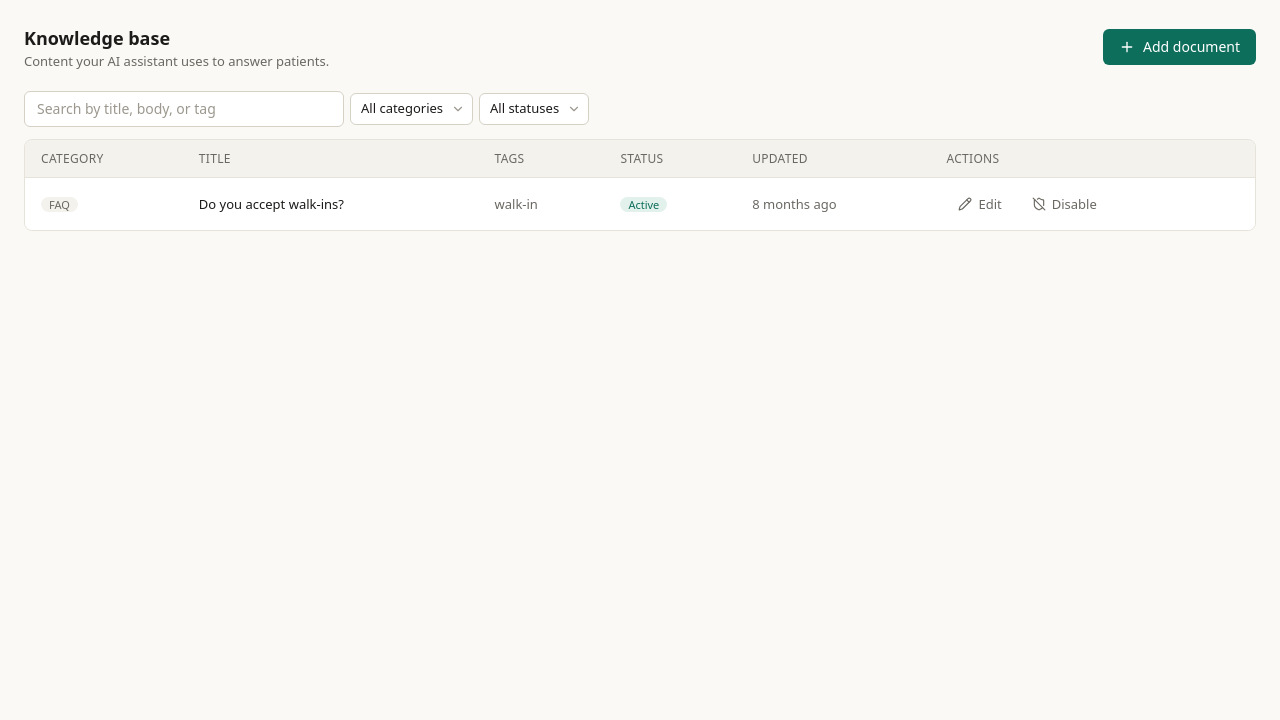
KnowledgePage › disables a document after confirmation
The image size is (1280, 720).
Click the button with aria-label "Disable Do you accept walk-ins?". click: [1064, 204]
box: x1=1020 y1=188 x2=1109 y2=220
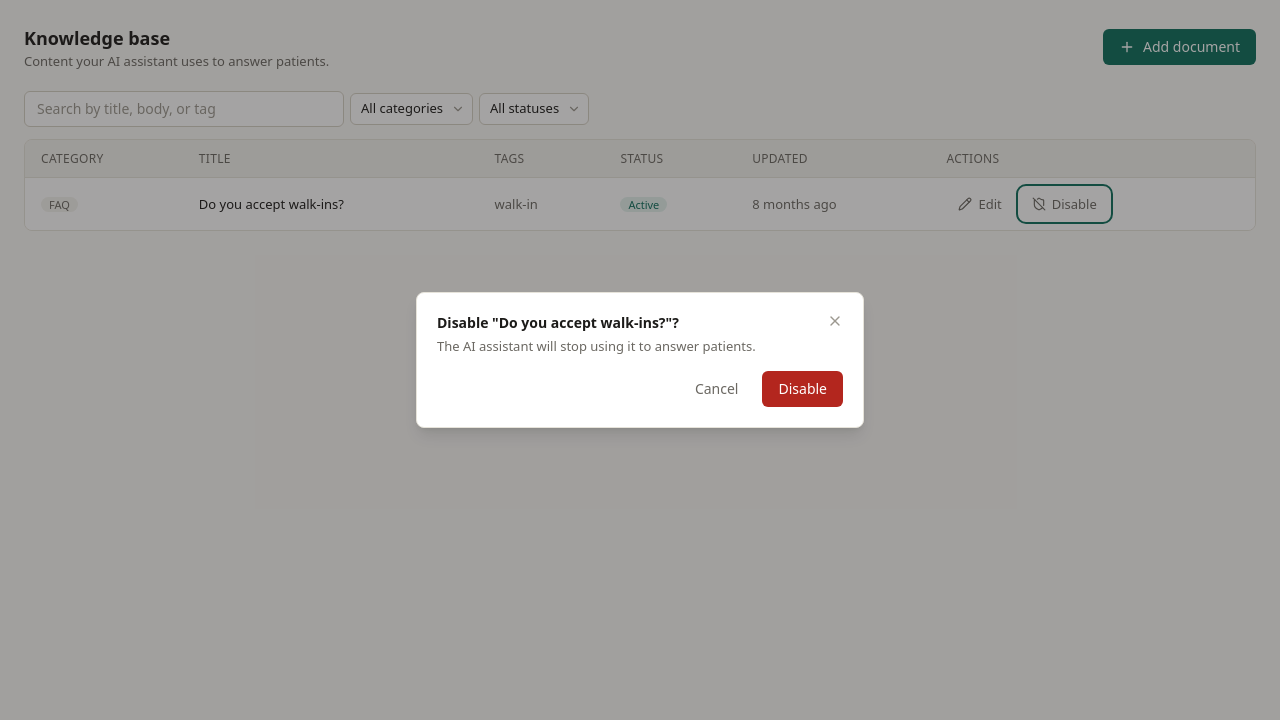
Now the heading "Disable \"Do you accept walk-ins?\"?" is shown, box x1=437 y1=313 x2=679 y2=332
Click the button "Disable". click: [803, 389]
box: x1=762 y1=371 x2=843 y2=407
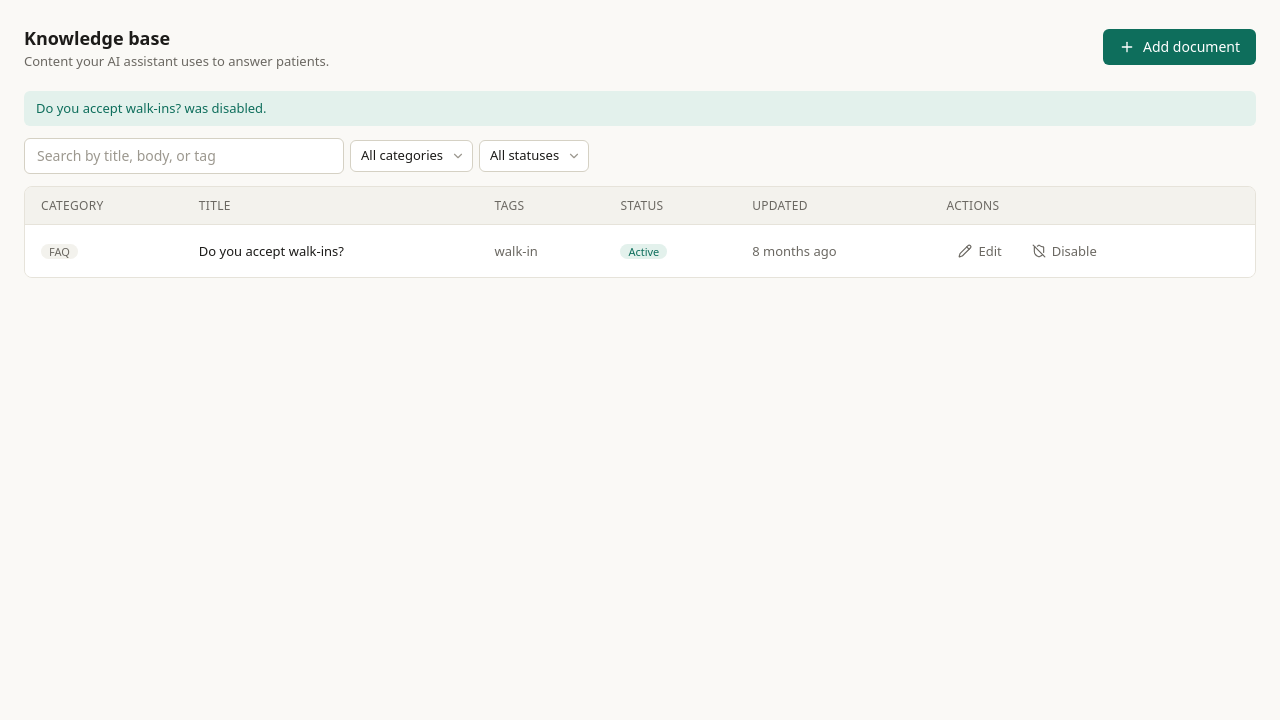
Now the text "Do you accept walk-ins? was disabled." is shown, box x1=24 y1=91 x2=1256 y2=126
